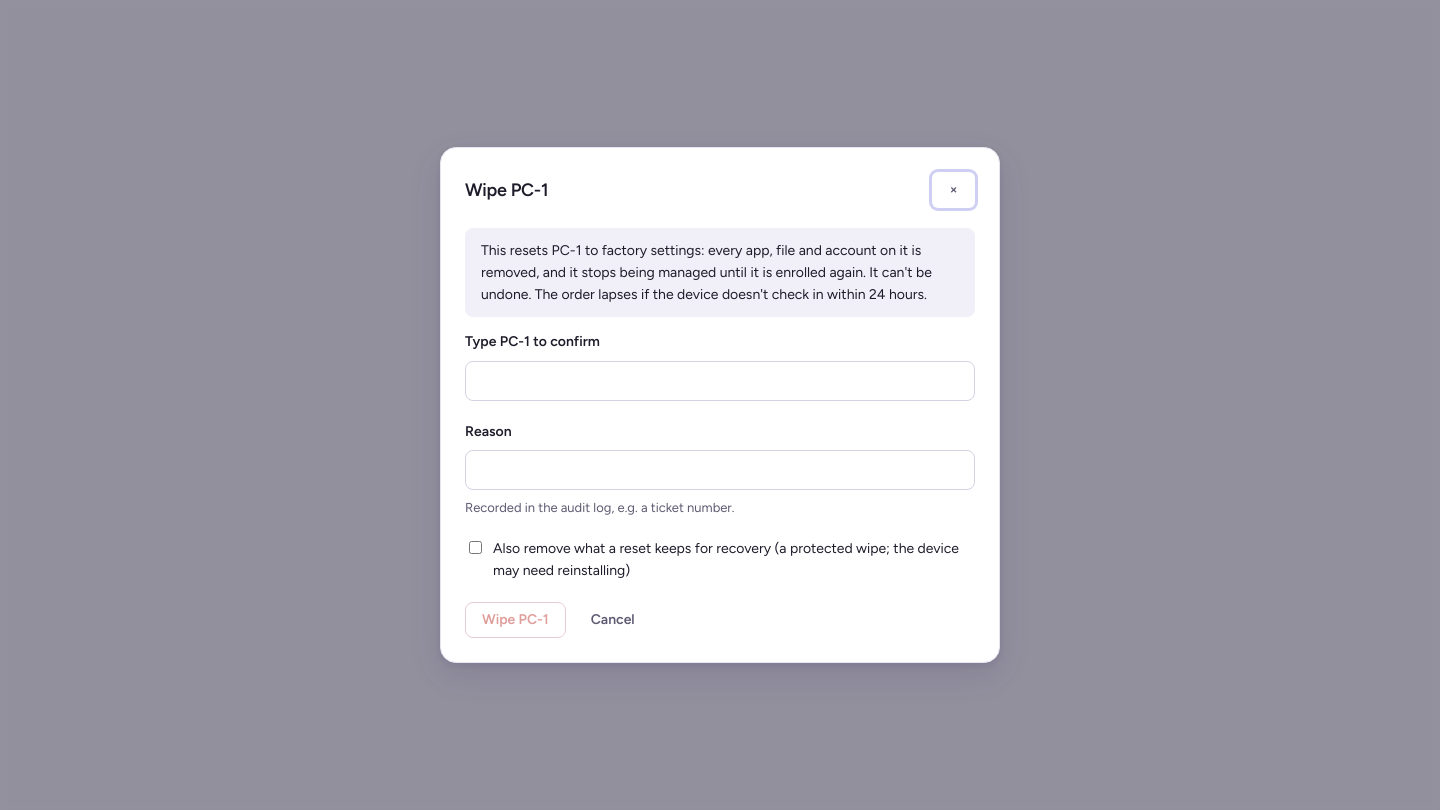
Scenario: WipeDialog › stays open to say a wipe is waiting for approval
Type "PC-1" into the field named "Confirm hostname" at coordinates (720, 381), box 465,361 -> 975,401
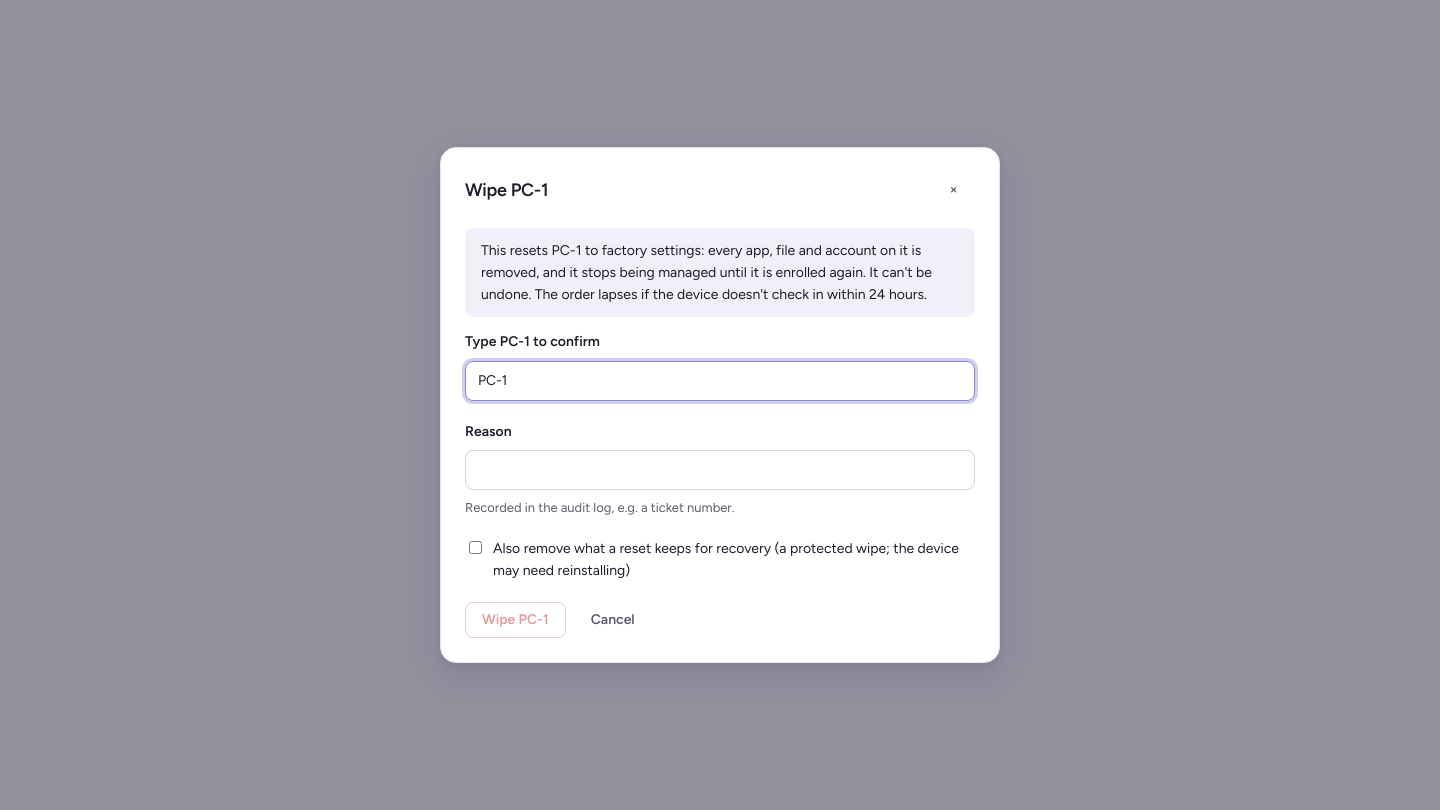
Type "lost" into the field labelled "Reason" at coordinates (720, 470), box 465,450 -> 975,490
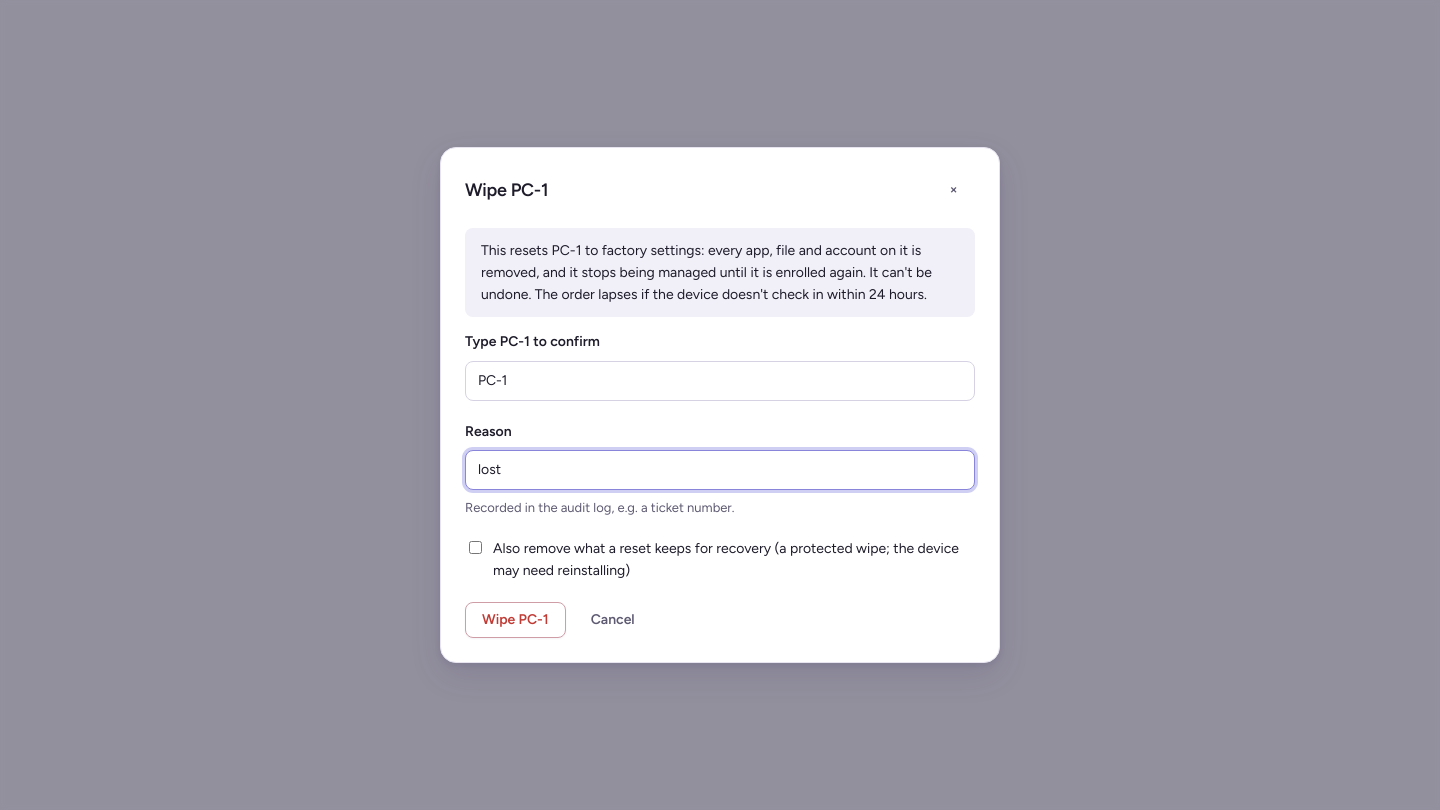
Click the button "Wipe PC-1" at coordinates (515, 620), box 465,602 -> 566,638
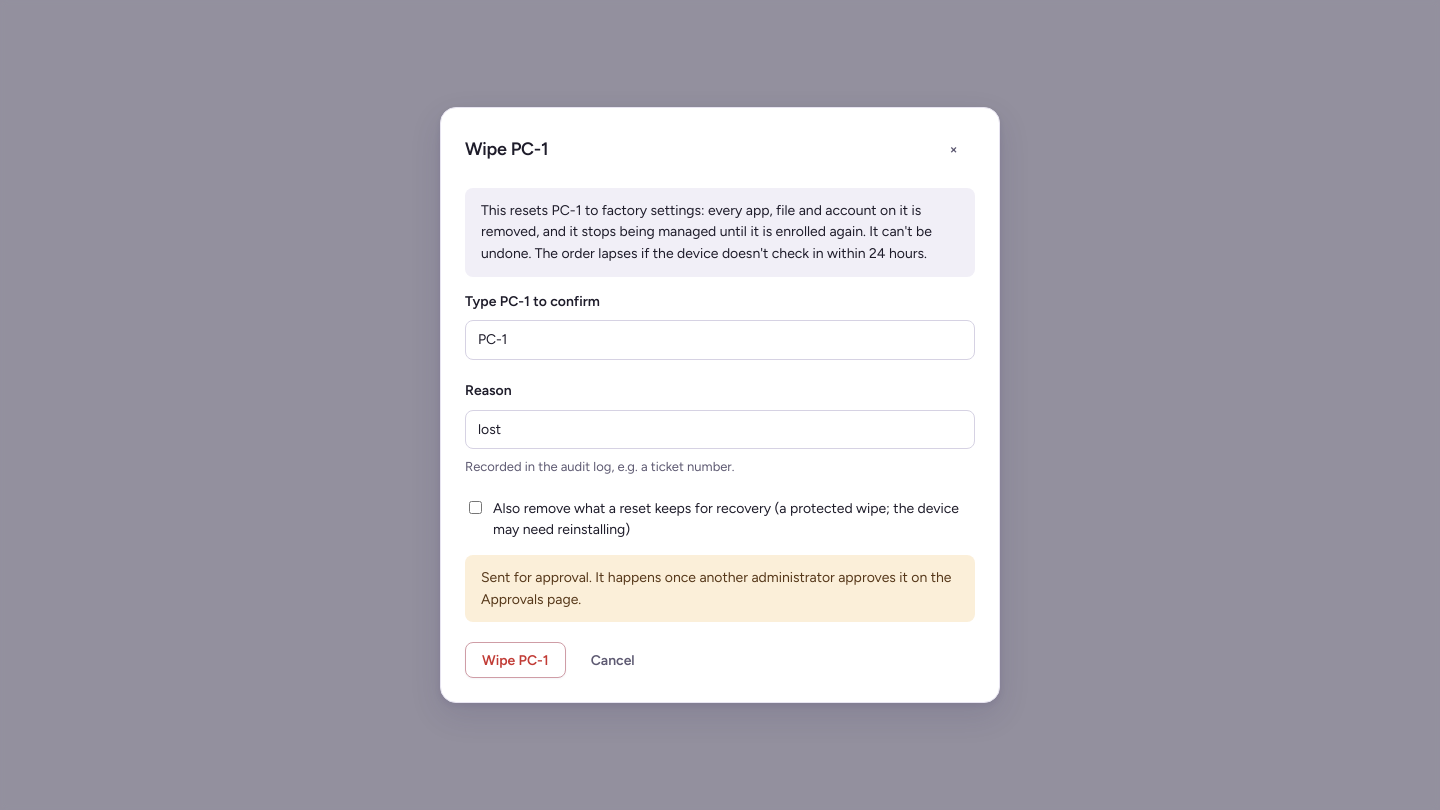
expect the text "Sent for approval" is shown: met, box 481,569 -> 952,608
